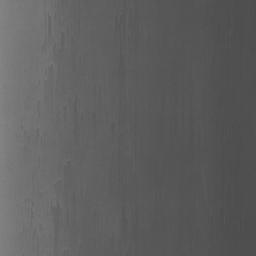Silk spot: (51, 204, 59, 248), (45, 13, 56, 35), (116, 15, 125, 32), (122, 207, 126, 232)
